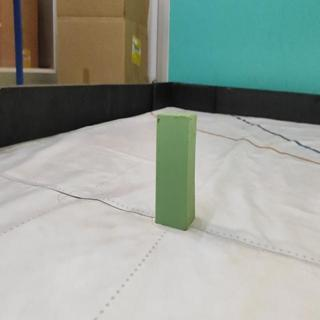greenbox: (153, 111, 199, 232)
